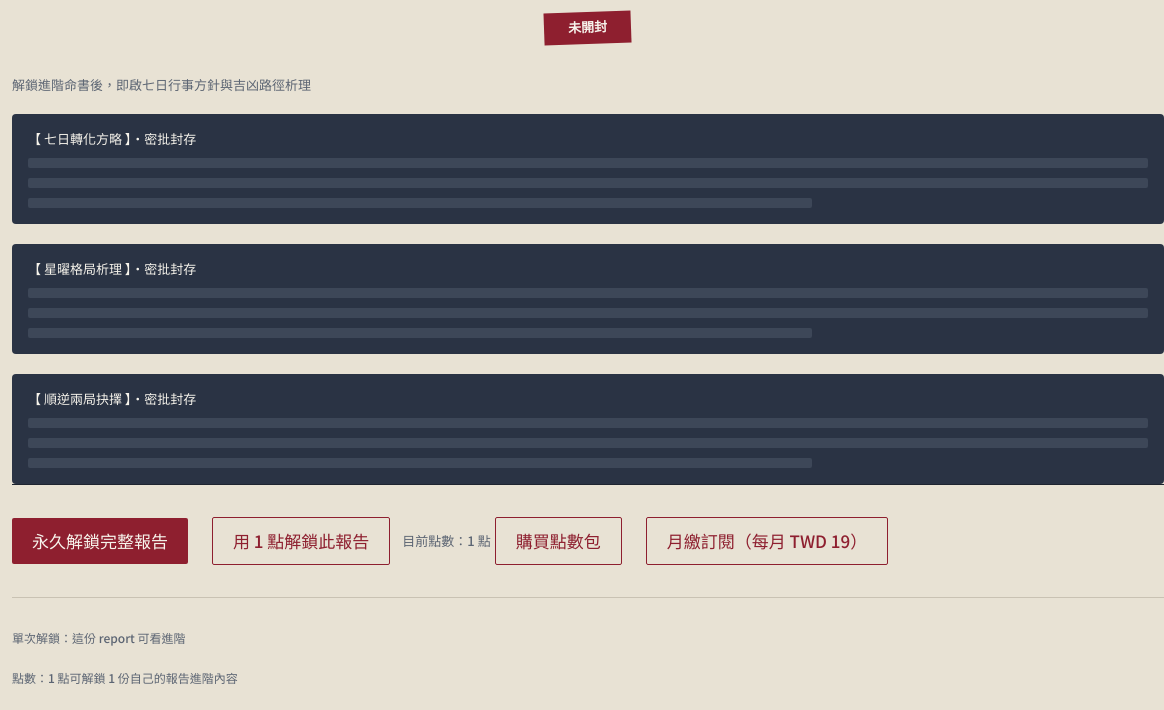
Scenario: AdvancedLockedPanel points pack and point unlock (US-018) › shows buy points and back to report when the API says insufficient
What coordinates should you click on to do the following:
click the button "用 1 點解鎖此報告"
I would click on:
 (301, 541)
Its box is x1=212 y1=516 x2=390 y2=565.
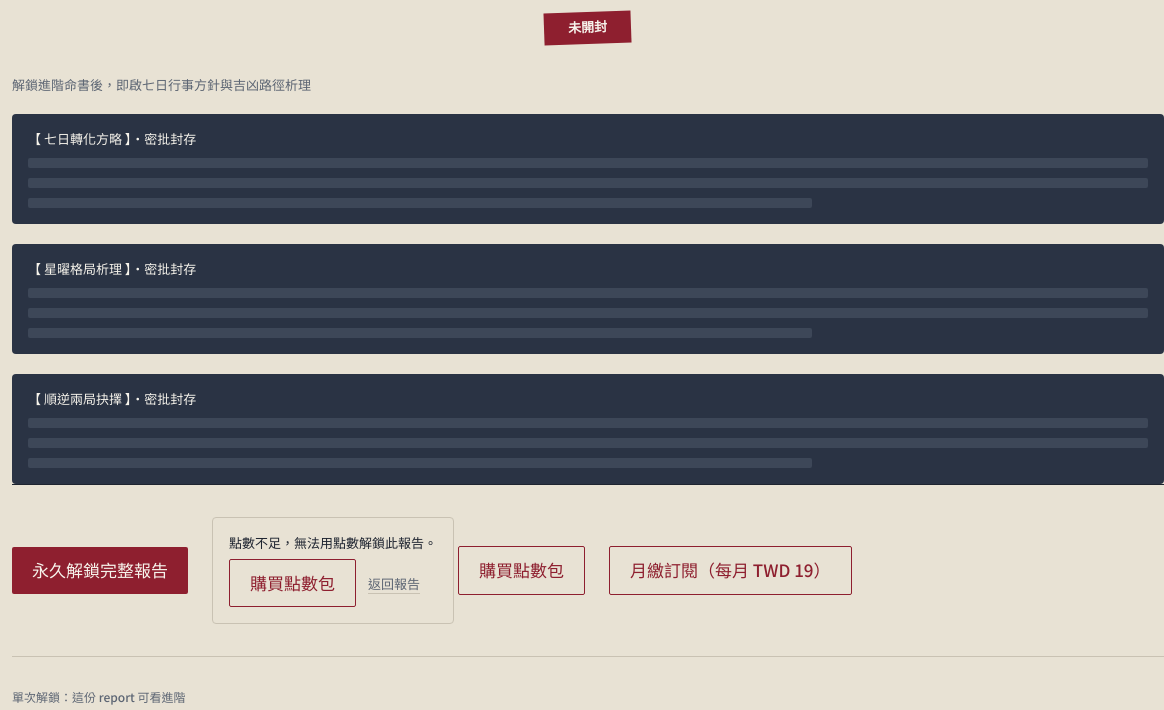
expect the text "點數不足，無法用點數解鎖此報告。" is shown: met, box x1=229 y1=534 x2=437 y2=551
expect the number of buttons "購買點數包" is 2: met, box x1=229 y1=559 x2=356 y2=608; x1=458 y1=546 x2=585 y2=594
What coordinates should you click on to do the following:
click the button "返回報告"
I would click on:
 (394, 583)
Its box is x1=368 y1=561 x2=420 y2=605.
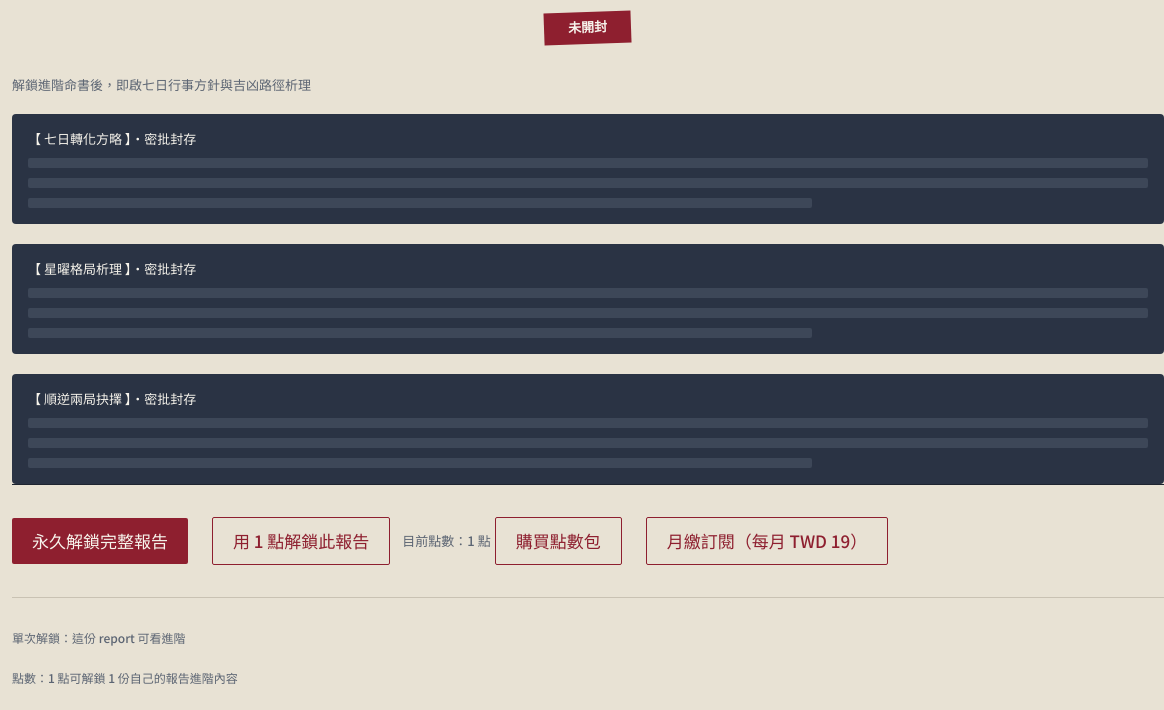
expect the button "用 1 點解鎖此報告" is shown: met, box x1=212 y1=516 x2=390 y2=565
